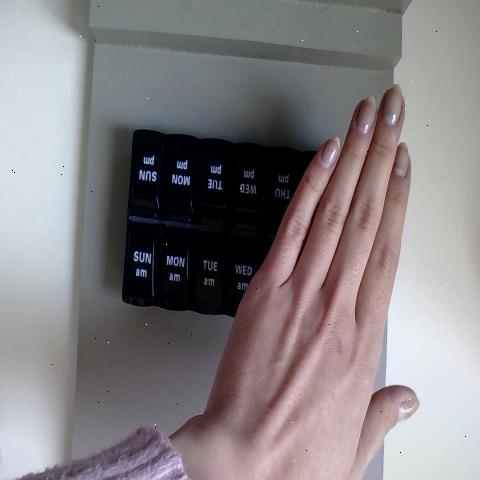Hands: (255, 81, 448, 475)
MON-am: (156, 228, 192, 308)
MON-pm: (164, 140, 198, 215)
SUN-am: (126, 222, 158, 303)
SUN-pm: (130, 131, 164, 222)
TUE-am: (192, 226, 223, 316)
TUE-pm: (198, 139, 232, 226)
WED-pm: (229, 143, 264, 227)
